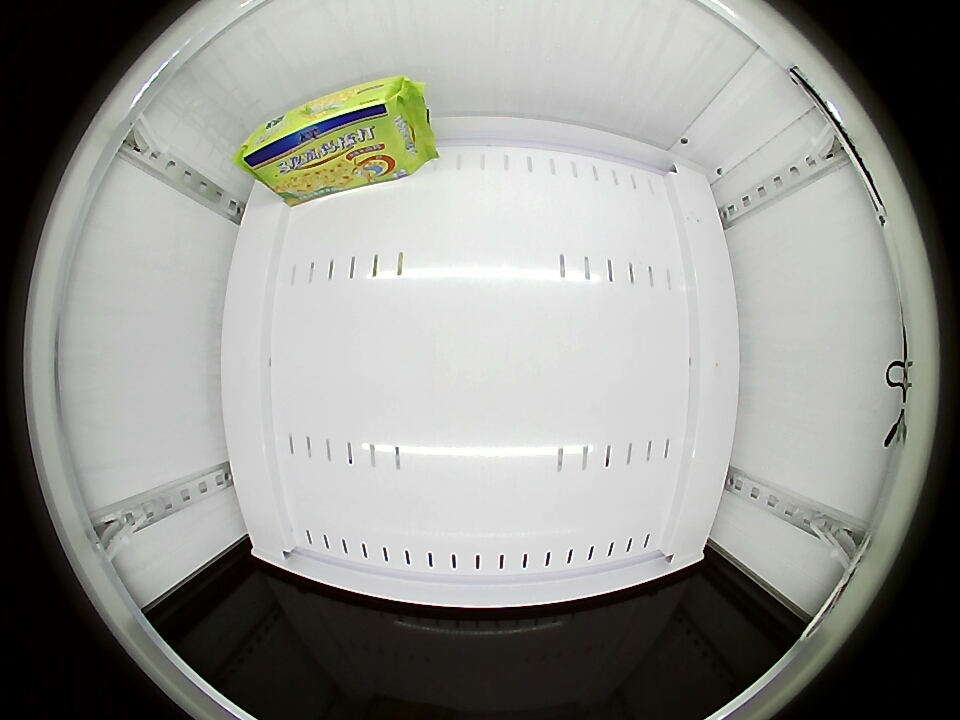taipingshuda: (238, 75, 417, 175)
